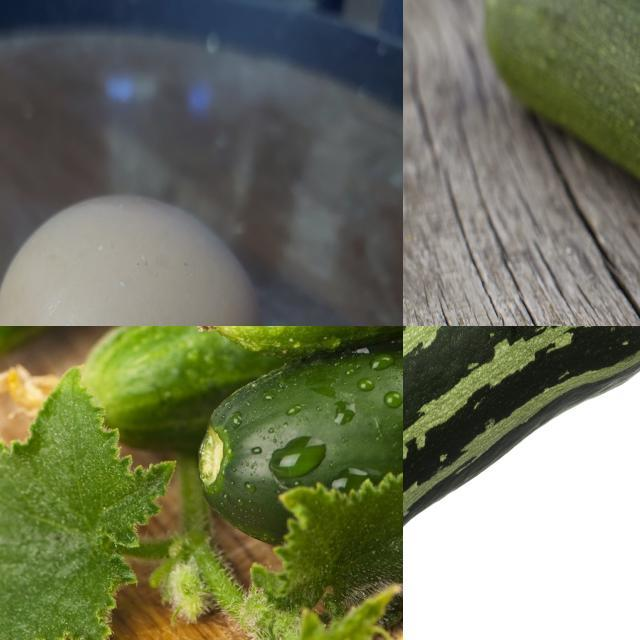cucumber: (192, 327, 404, 572)
egg: (1, 190, 274, 327)
zucchini: (404, 327, 640, 640), (478, 1, 640, 327)
